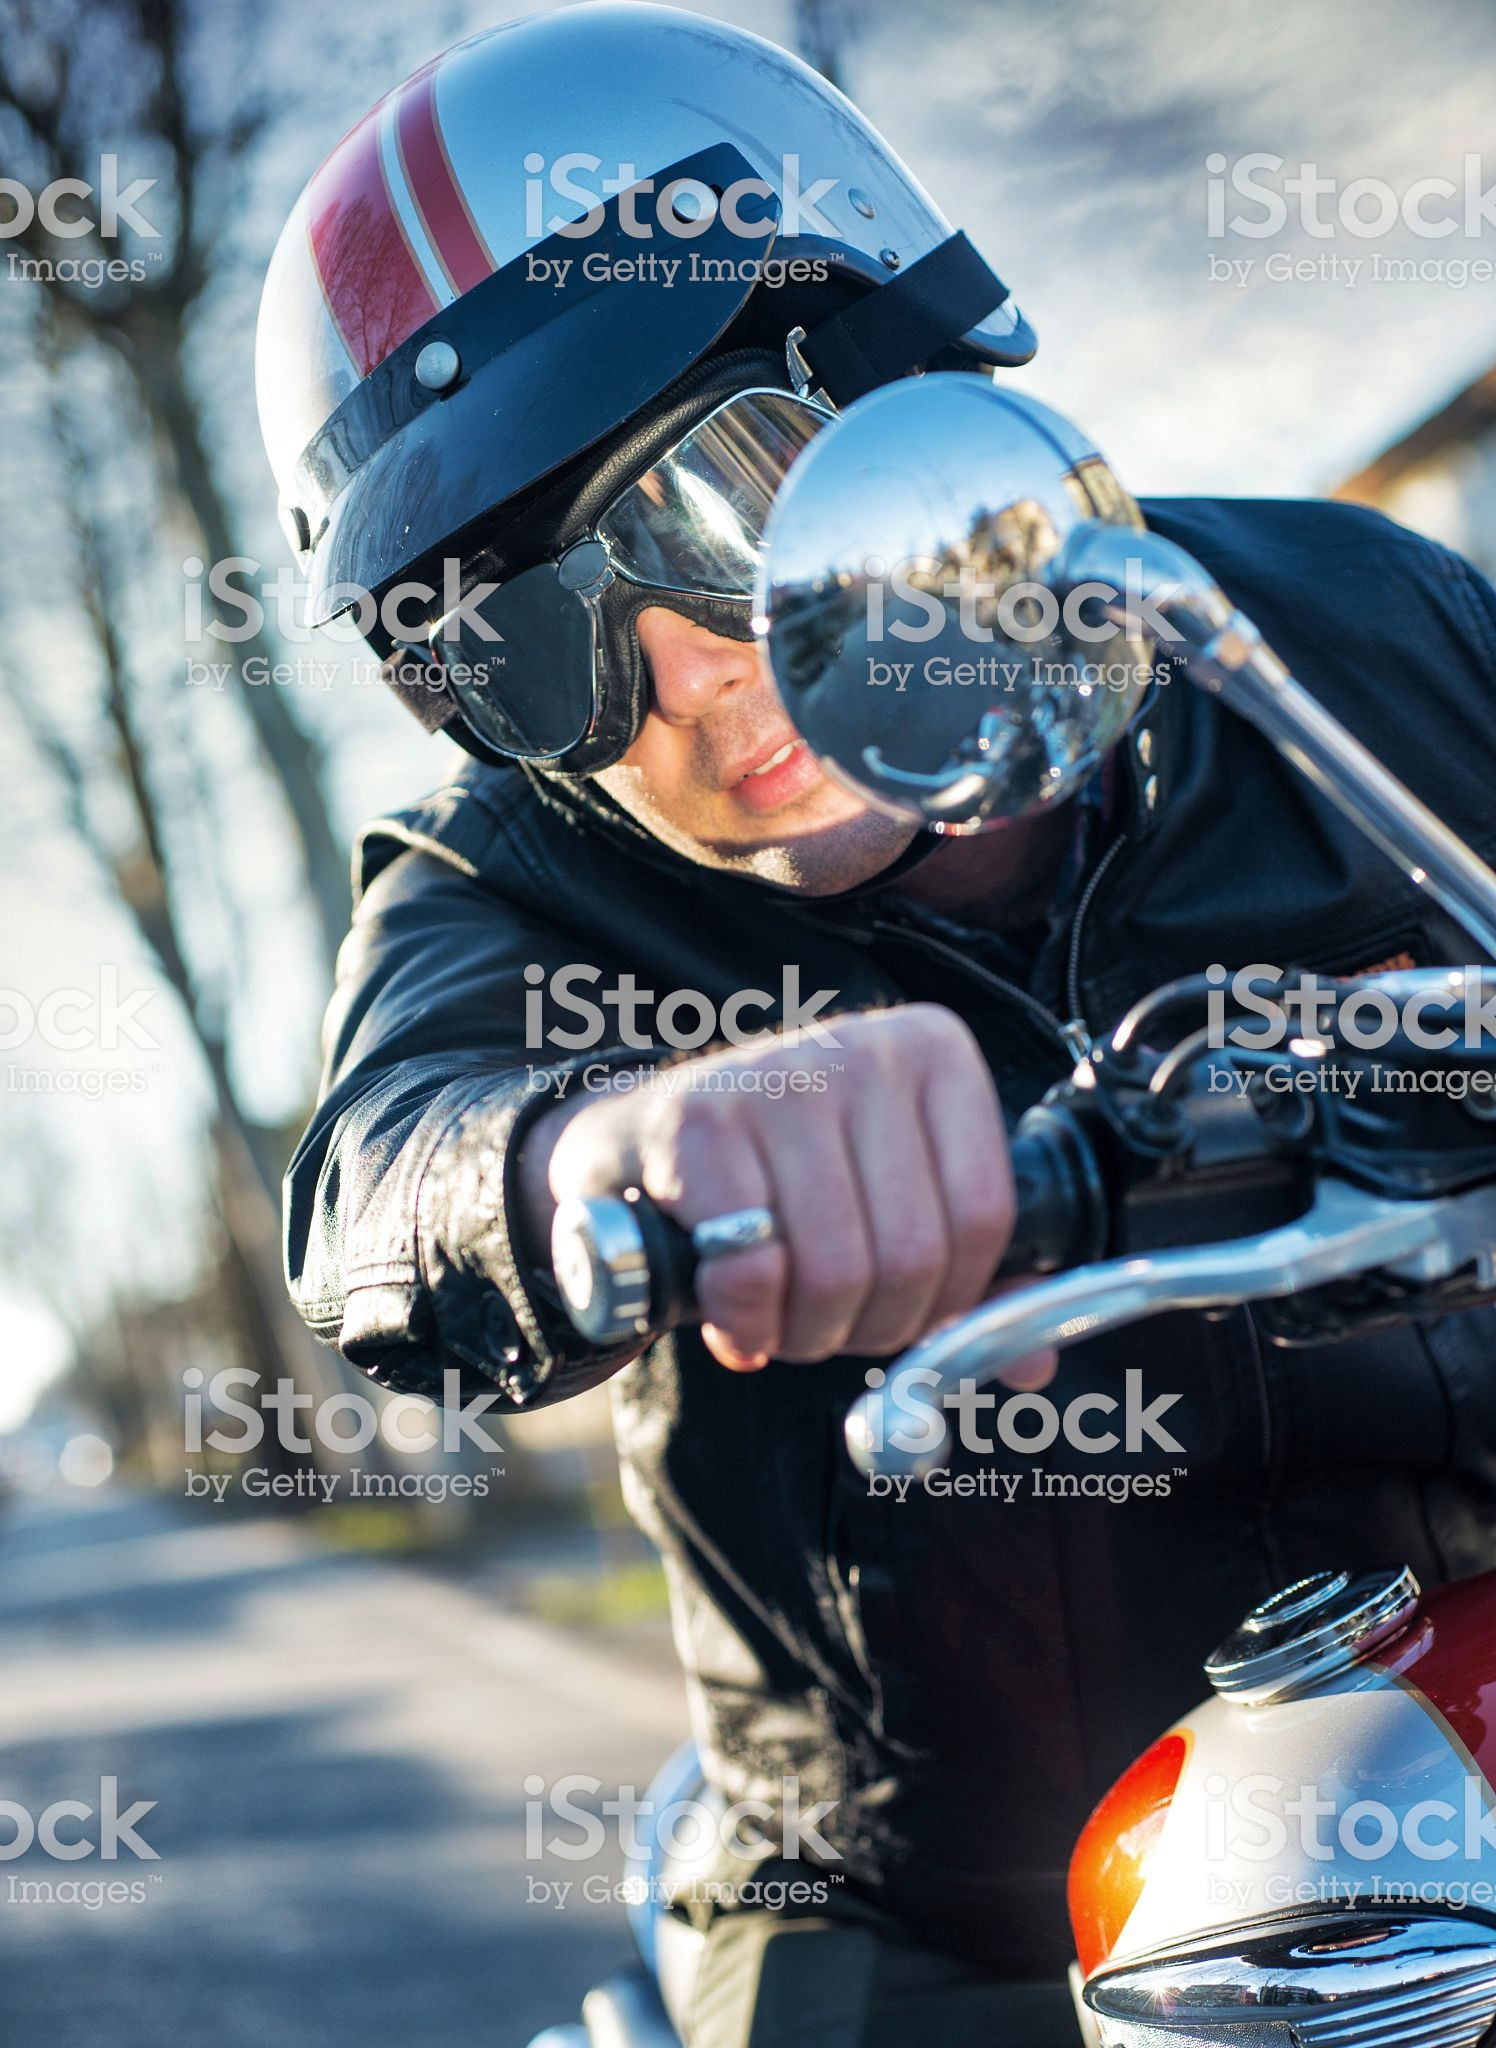helmet: (197, 91, 1057, 774)
